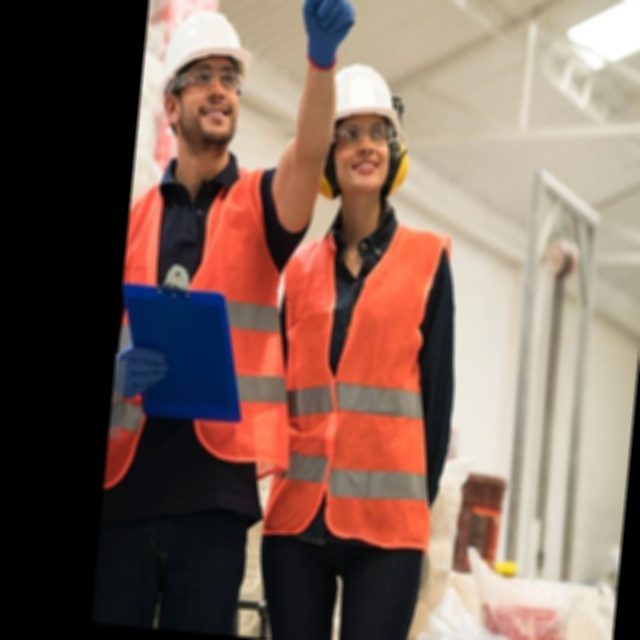Con_Casco: (157, 6, 259, 156)
Con_Chaleco: (104, 155, 310, 498), (264, 212, 459, 543)
